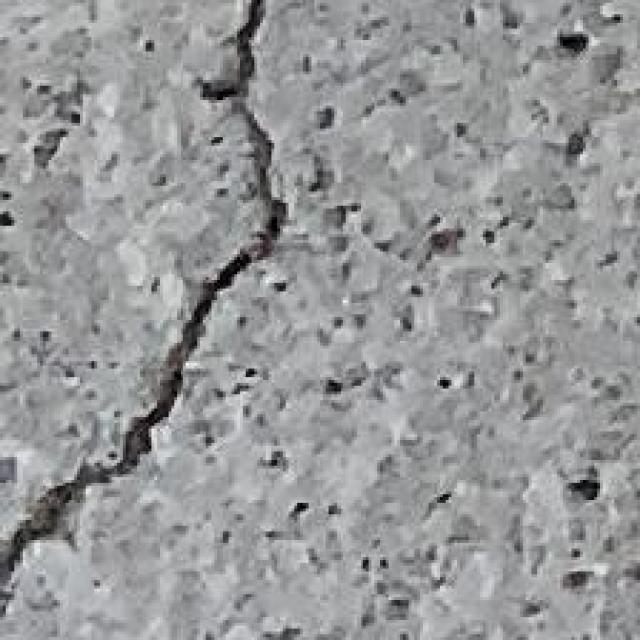Crack: (0, 4, 326, 639)
